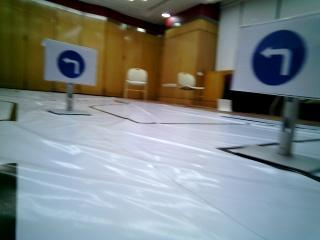left: (243, 24, 320, 87), (48, 40, 96, 82)
